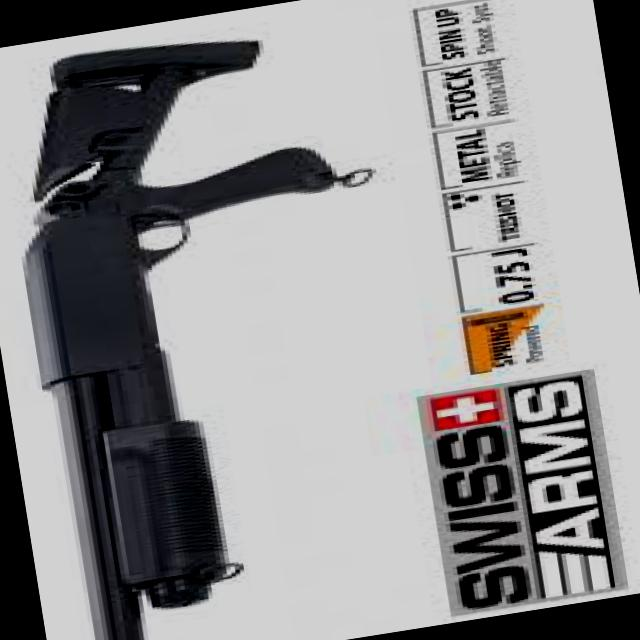long weapon: (0, 14, 382, 640)
